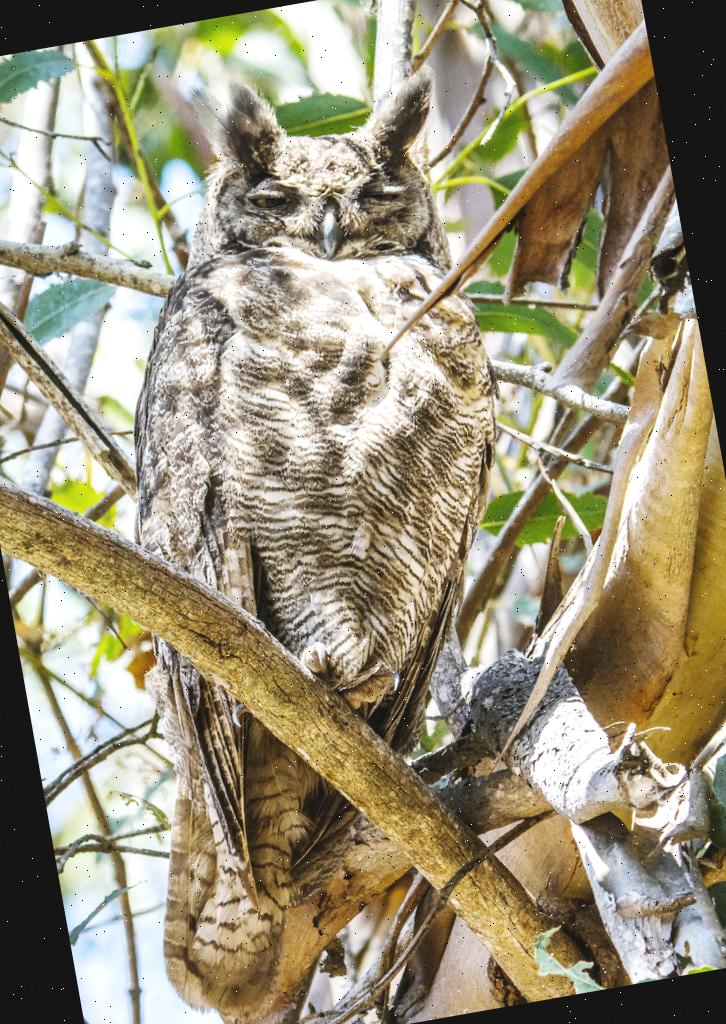Owl: (3, 27, 609, 1024)
